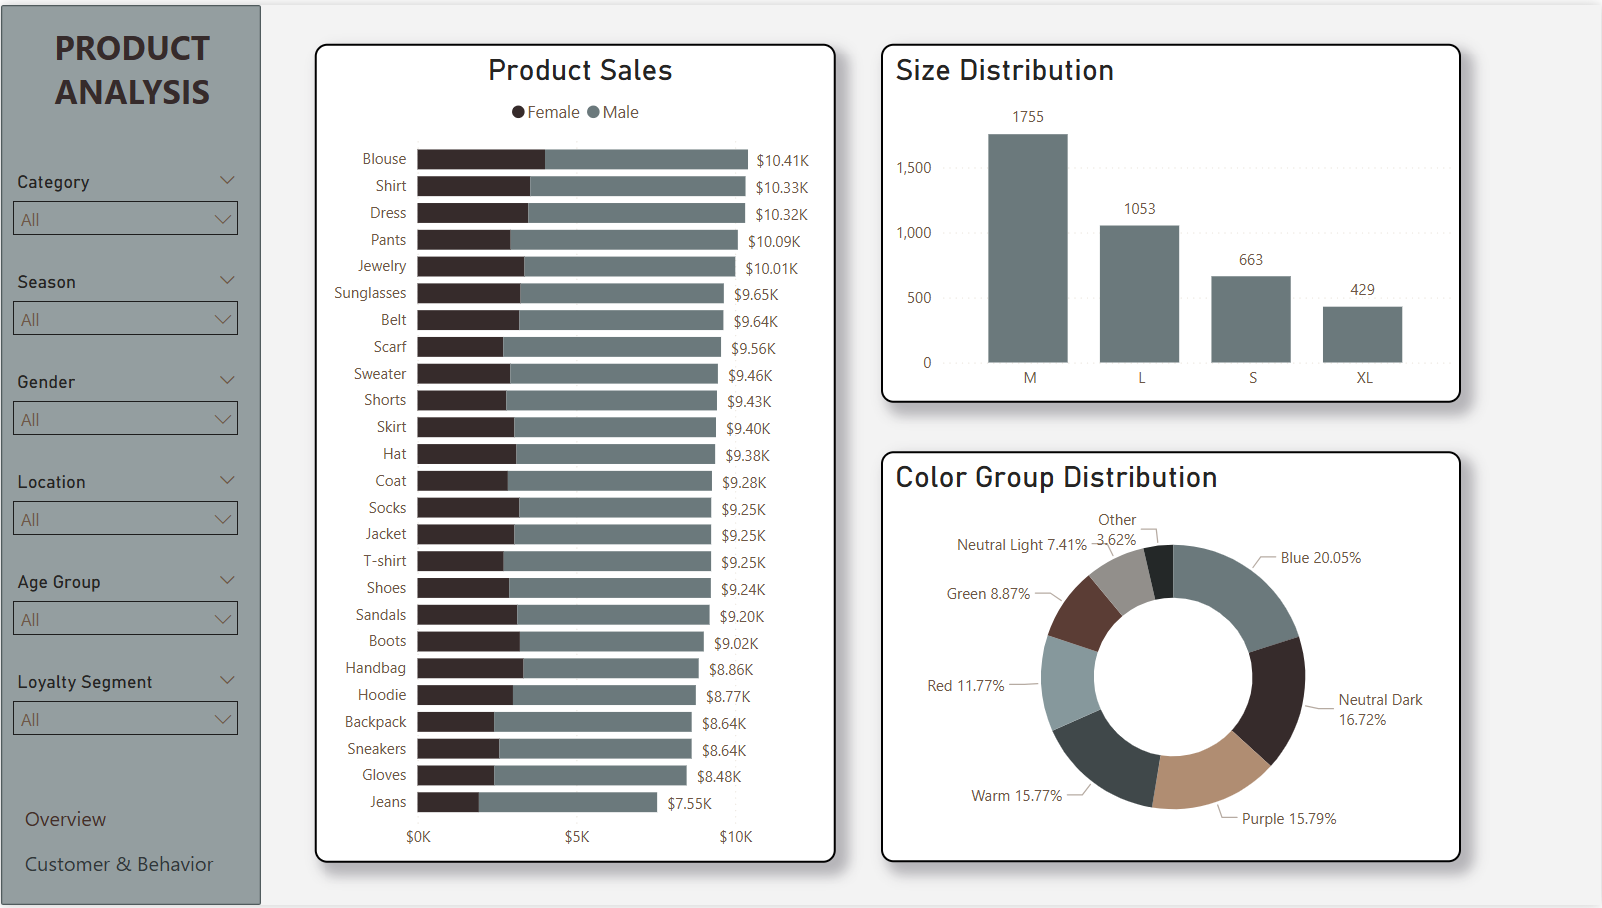

The dashboard page shown, as its layout file describes it:
{"tool":"powerbi","page":{"name":"Product Analysis","canvas":[1280,720],"ordinal":1},"visuals":[{"type":"clusteredBarChart","title":"Product Sales","fields":{"Category":["customer-shopping-trends.Item Purchased"],"Y":["Measures Table.Total Revenue"]},"box":[251.4,31.2,416.5,654.4],"z":0},{"type":"shape","box":[0,0,207.9,719.6],"z":1000},{"type":"clusteredColumnChart","title":"Size Distribution","fields":{"Y":["Count(customer-shopping-trends.Customer ID)"],"Category":["customer-shopping-trends.Size"]},"box":[703.5,31.2,464.1,287.1],"z":2000},{"type":"donutChart","title":"Color Group Distribution","fields":{"Y":["Count(customer-shopping-trends.Customer ID)"],"Category":["customer-shopping-trends.Color Group"]},"box":[703.5,357,464.1,328.7],"z":3000},{"type":"actionButton","title":"Overview","box":[19,633,181.3,33.6],"z":4000},{"type":"actionButton","title":"Overview","box":[19,666.6,181.3,38],"z":5000},{"type":"slicer","fields":{"Values":["customer-shopping-trends.Category"]},"box":[0,127.9,199.9,80],"z":6000},{"type":"slicer","fields":{"Values":["customer-shopping-trends.Season"]},"box":[0,207.9,199.9,80],"z":7000},{"type":"slicer","fields":{"Values":["customer-shopping-trends.Gender"]},"box":[0,287.8,199.9,80],"z":8000},{"type":"slicer","fields":{"Values":["customer-shopping-trends.Location"]},"box":[0,367.8,199.9,80],"z":9000},{"type":"slicer","fields":{"Values":["customer-shopping-trends.Age Group"]},"box":[0,447.7,199.9,80],"z":10000},{"type":"slicer","fields":{"Values":["customer-shopping-trends.Loyalty"]},"box":[0,527.7,199.9,80],"z":11000}]}

Visuals, with their boxes in screenshot pixels (x1, y1, x2, y2), scaled from the page's 1280x720 canvas onto the 1602x908 screenshot:
"Product Sales" clusteredBarChart: pyautogui.locateOnScreen(315, 39, 836, 865)
shape: pyautogui.locateOnScreen(0, 0, 260, 907)
"Size Distribution" clusteredColumnChart: pyautogui.locateOnScreen(880, 39, 1461, 401)
"Color Group Distribution" donutChart: pyautogui.locateOnScreen(880, 450, 1461, 865)
"Overview" actionButton: pyautogui.locateOnScreen(24, 798, 251, 841)
"Overview" actionButton: pyautogui.locateOnScreen(24, 841, 251, 889)
slicer - customer-shopping-trends.Category: pyautogui.locateOnScreen(0, 161, 250, 262)
slicer - customer-shopping-trends.Season: pyautogui.locateOnScreen(0, 262, 250, 363)
slicer - customer-shopping-trends.Gender: pyautogui.locateOnScreen(0, 363, 250, 464)
slicer - customer-shopping-trends.Location: pyautogui.locateOnScreen(0, 464, 250, 565)
slicer - customer-shopping-trends.Age Group: pyautogui.locateOnScreen(0, 565, 250, 665)
slicer - customer-shopping-trends.Loyalty: pyautogui.locateOnScreen(0, 665, 250, 766)
